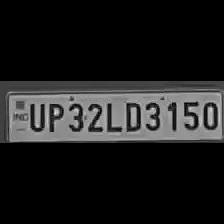0: (200, 98, 220, 130)
1: (163, 98, 179, 132)
2: (84, 99, 104, 133)
3: (64, 98, 84, 132), (142, 98, 162, 132)
5: (178, 98, 198, 130)
D: (120, 98, 142, 132)
L: (104, 98, 120, 132)
P: (44, 99, 64, 133)
U: (26, 98, 44, 132)
